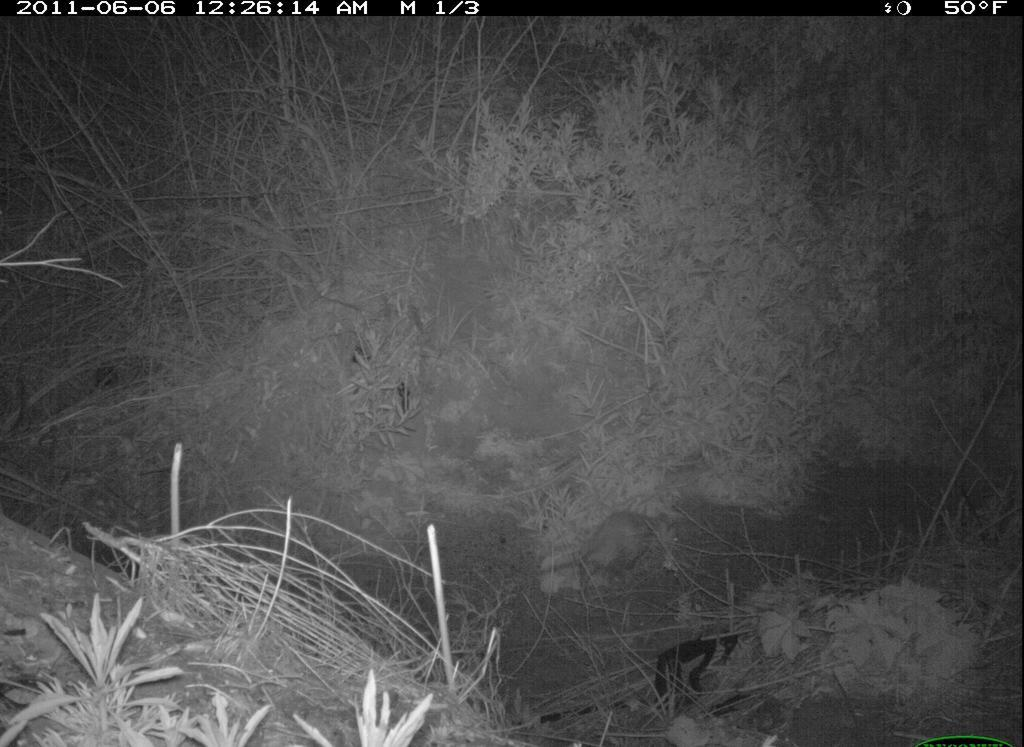opossum: (530, 500, 698, 607)
